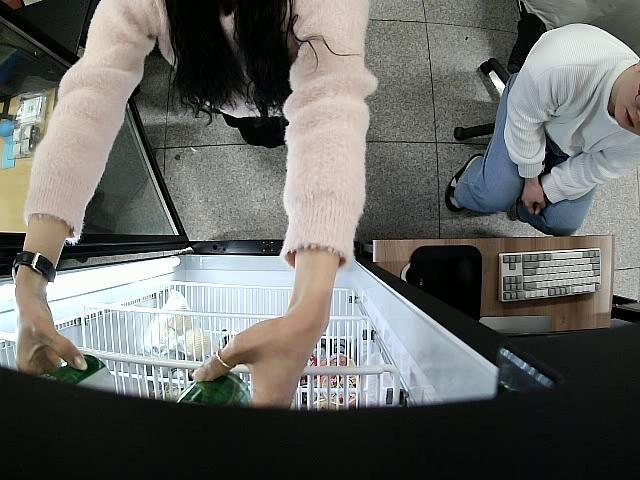12_chilsungCider: (172, 364, 254, 410), (34, 356, 118, 400)
